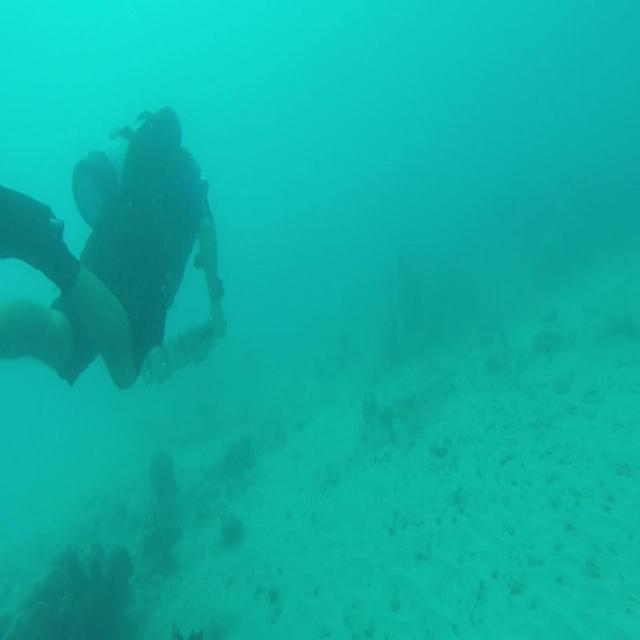human: (0, 104, 227, 390)
